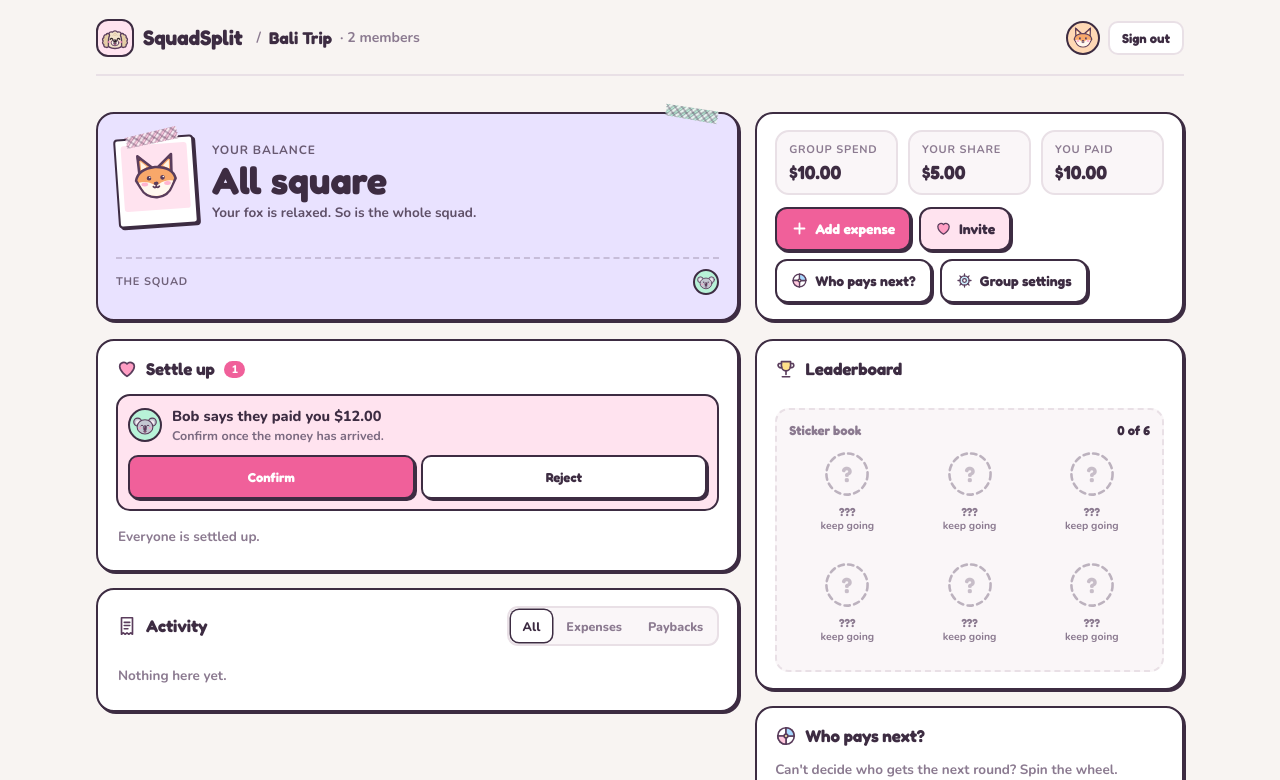
Scenario: PAID stamp › has the stamp already down under reduced motion
The image size is (1280, 780).
Click the button "Confirm" at (271, 477), box x1=128 y1=455 x2=415 y2=499
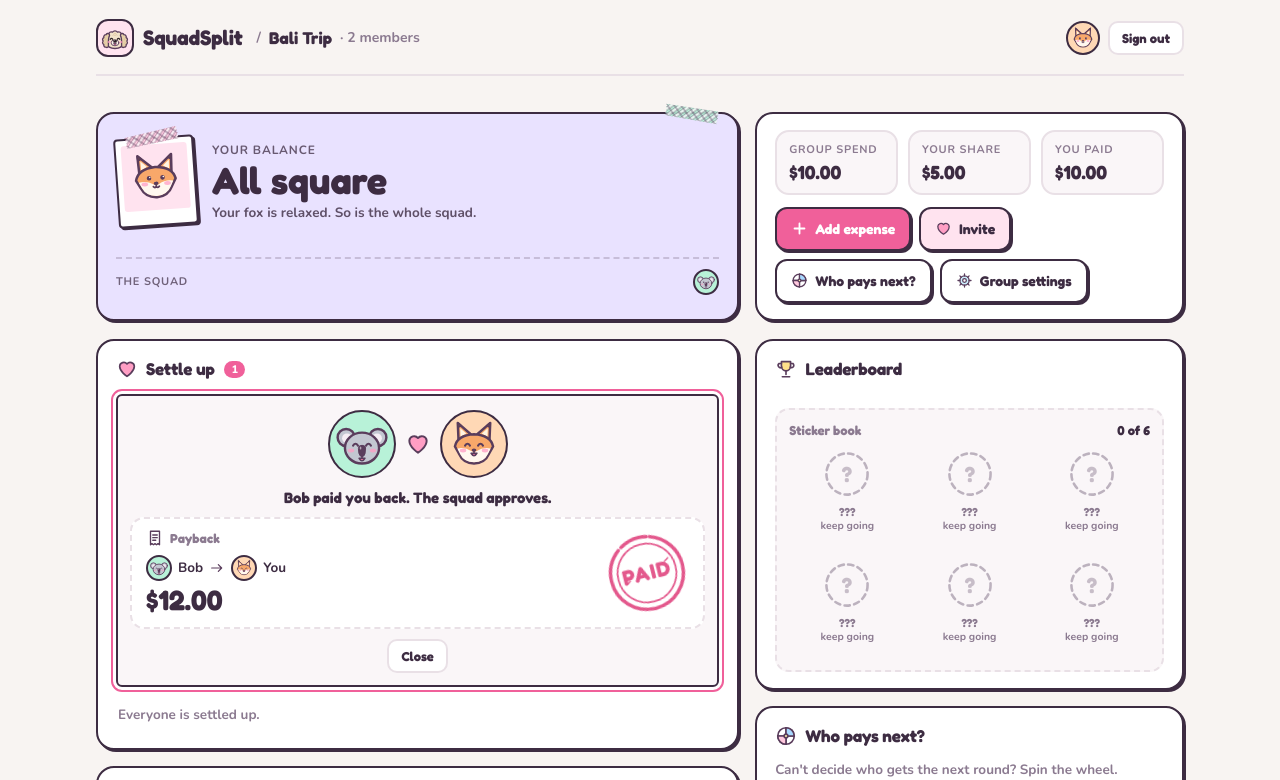
Result: the picture named "Paid" is shown at x1=596 y1=522 x2=698 y2=624
